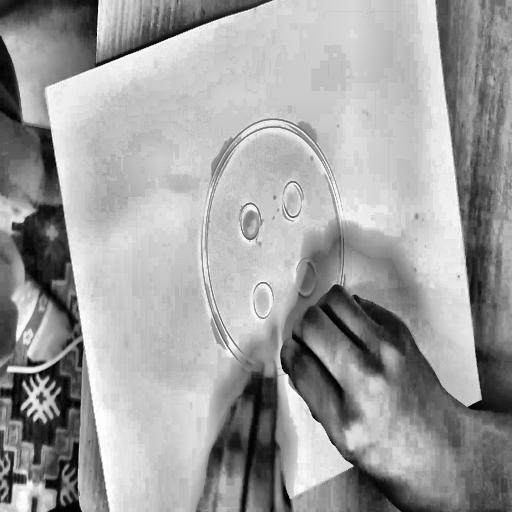bottom_right: (476, 389, 487, 405)
button: (167, 82, 389, 443)
top_left: (42, 83, 49, 97)
